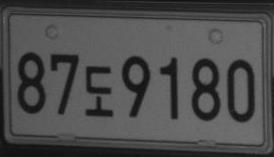0: (226, 58, 256, 123)
1: (158, 55, 187, 119)
7: (49, 53, 79, 115)
8: (189, 56, 222, 121), (15, 50, 46, 114)
9: (120, 54, 151, 117)
도: (84, 65, 114, 117)
